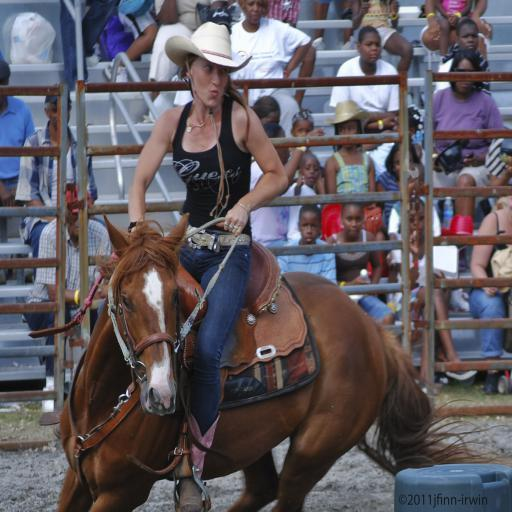horse: (54, 212, 512, 512)
